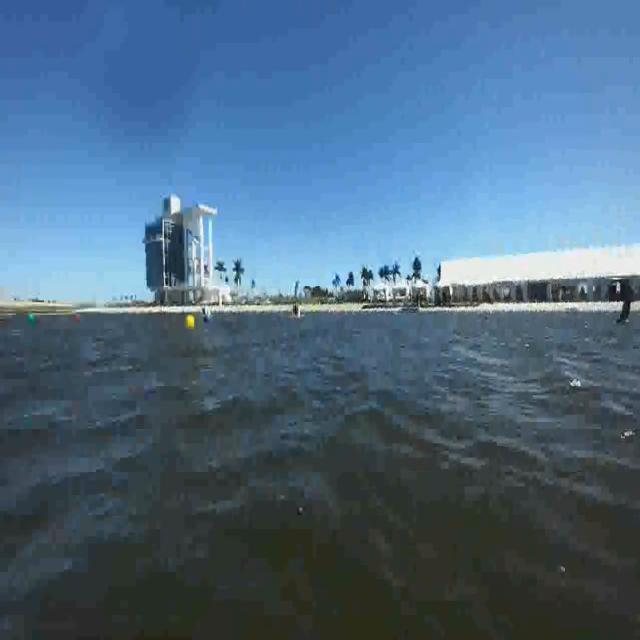blue-buoy: (203, 312, 208, 321)
green-buoy: (26, 311, 36, 324)
yellow-buoy: (185, 313, 195, 331)
